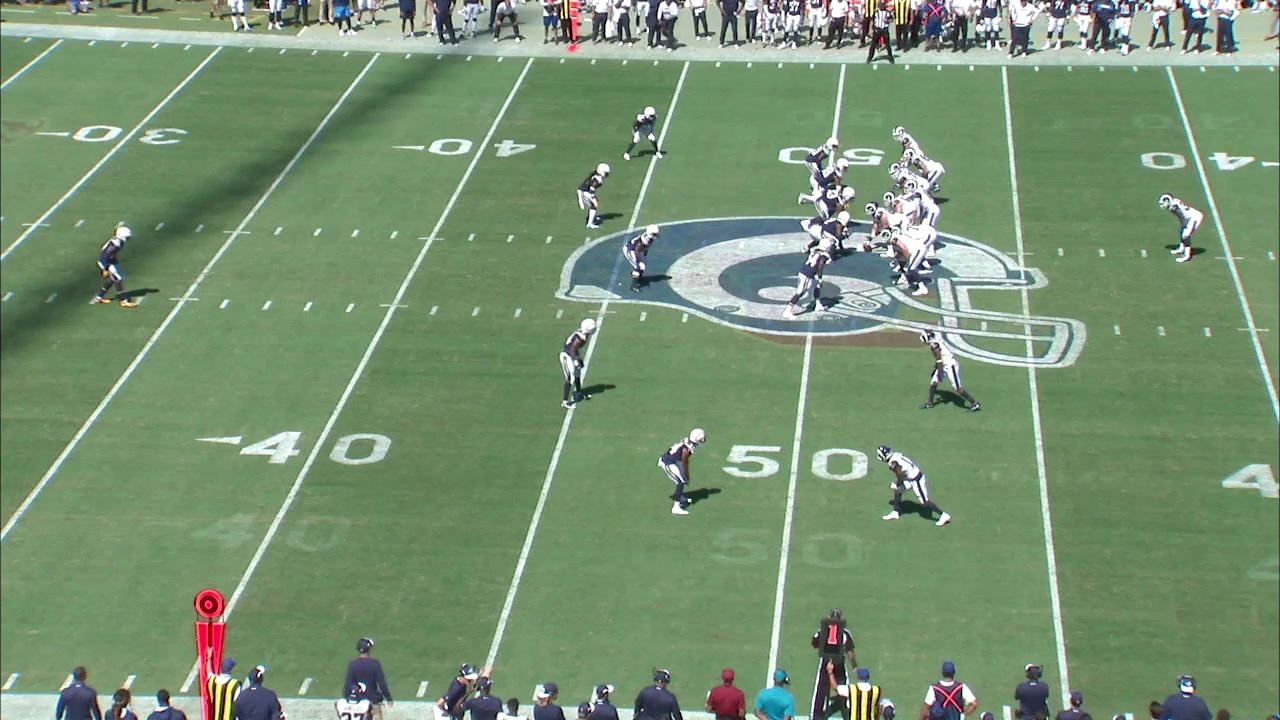player: (876, 444, 949, 525), (921, 328, 980, 413), (657, 427, 708, 518), (781, 237, 835, 319), (557, 317, 599, 410), (91, 223, 134, 307), (877, 229, 929, 297), (1158, 191, 1203, 265), (623, 222, 661, 296), (799, 186, 856, 231), (797, 158, 849, 205), (625, 103, 663, 161), (800, 211, 851, 254), (580, 161, 611, 230), (888, 225, 936, 269), (863, 203, 907, 249), (905, 179, 942, 228), (806, 136, 841, 173), (905, 150, 945, 181), (888, 163, 931, 191), (892, 126, 924, 161), (884, 192, 913, 217)
ref: (866, 1, 892, 63)
